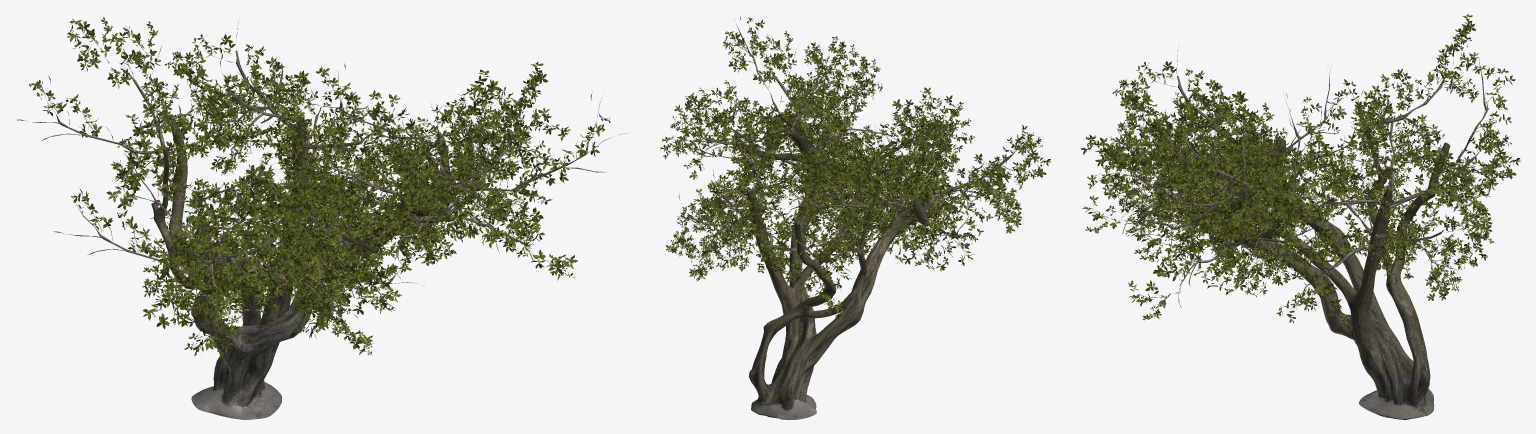
Rendered from island_tree_02.glb.
3 renders of one model, left to right at view 1: azimuth 30°, elevation 25°; view 2: azimuth 150°, elevation 25°; view 3: azimuth 270°, elevation 25°, orthographic. The views are drawn at different scales.
Parts seen in each view (by area): view 1: island_tree_02_LOD0.002, island_tree_02_LOD0.001, island_tree_02_LOD0; view 2: island_tree_02_LOD0.002, island_tree_02_LOD0.001, island_tree_02_LOD0; view 3: island_tree_02_LOD0.002, island_tree_02_LOD0.001, island_tree_02_LOD0.
Part boxes in pixels (x1,y1,x2,y2): island_tree_02_LOD0.002: [29, 17, 610, 356]; island_tree_02_LOD0.001: [151, 114, 484, 419]; island_tree_02_LOD0: [17, 22, 627, 349]; island_tree_02_LOD0.002: [660, 17, 1050, 320]; island_tree_02_LOD0.001: [733, 114, 934, 419]; island_tree_02_LOD0: [668, 15, 1044, 305]; island_tree_02_LOD0.002: [1080, 14, 1520, 324]; island_tree_02_LOD0.001: [1155, 104, 1450, 419]; island_tree_02_LOD0: [1088, 31, 1513, 319].
Size of the model in its own units: 4.2 by 3.41 by 4.07.
Materials: 3 (3 with a texture image).
